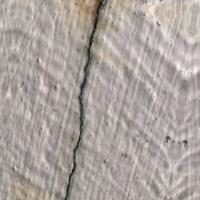crack: (57, 0, 127, 199)
